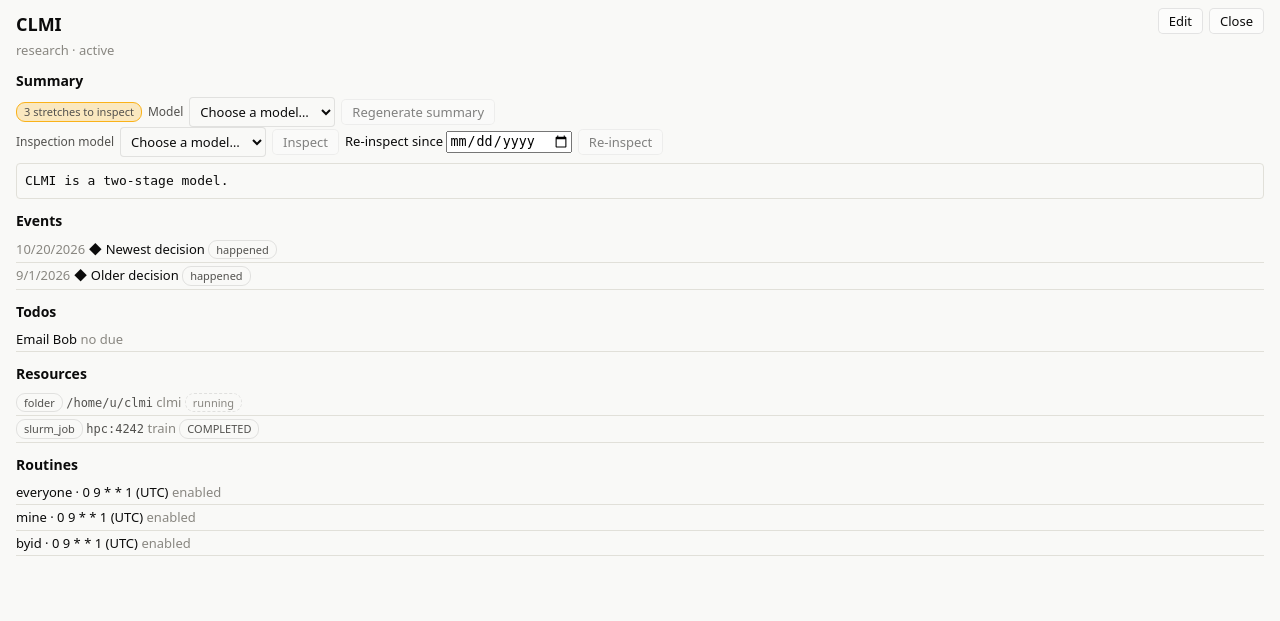
Test: ProjectView › inspects with the chosen model
Select "claude-fable-5-1" in the dropdown labelled "Inspection model". click: [193, 142]
box: [120, 127, 266, 157]
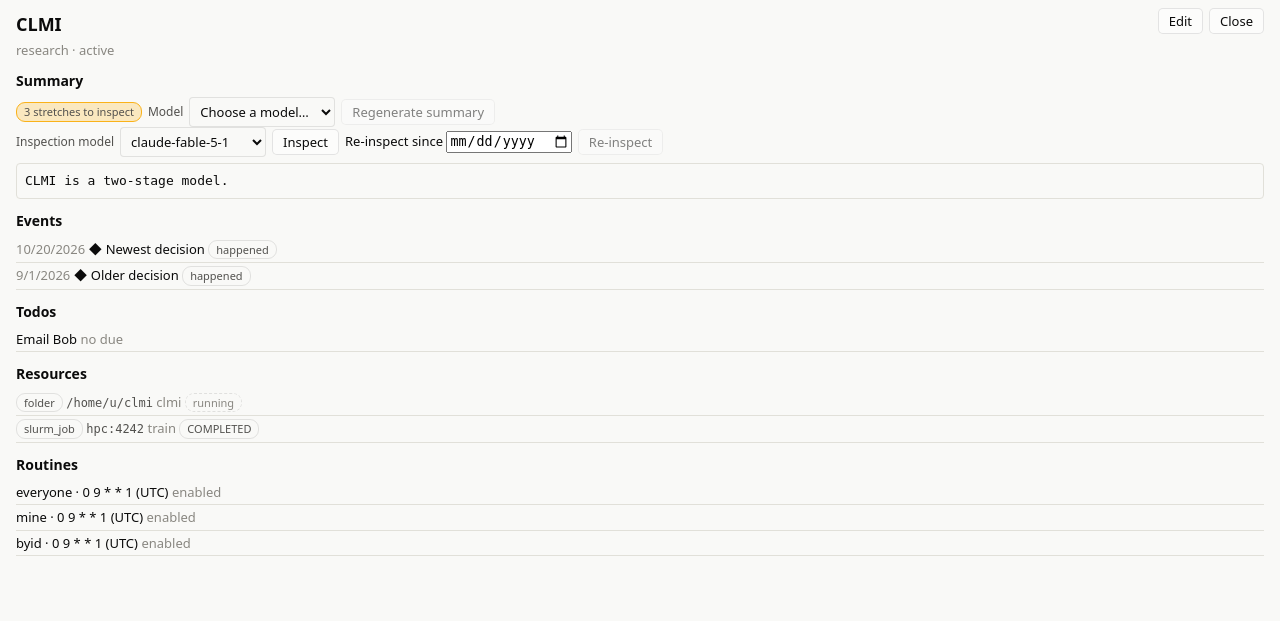
Click the button "Inspect". click: [306, 142]
box: [272, 129, 339, 155]
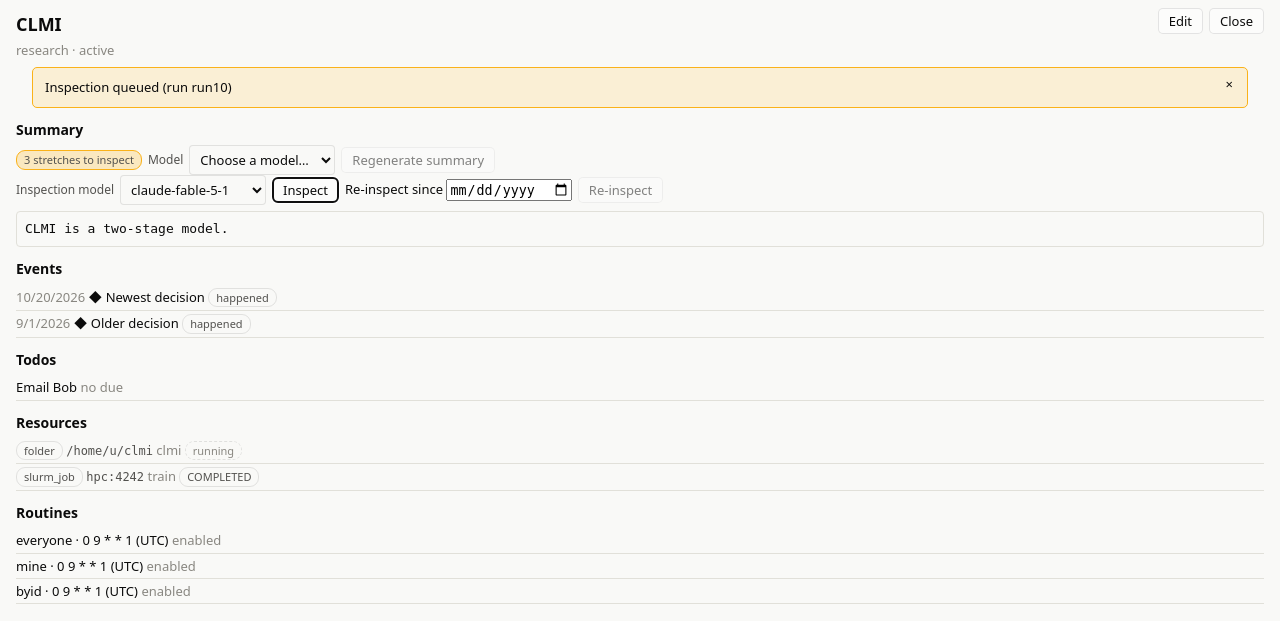
Now the text "Inspection queued (run run10)" is shown, box [45, 78, 232, 96]
